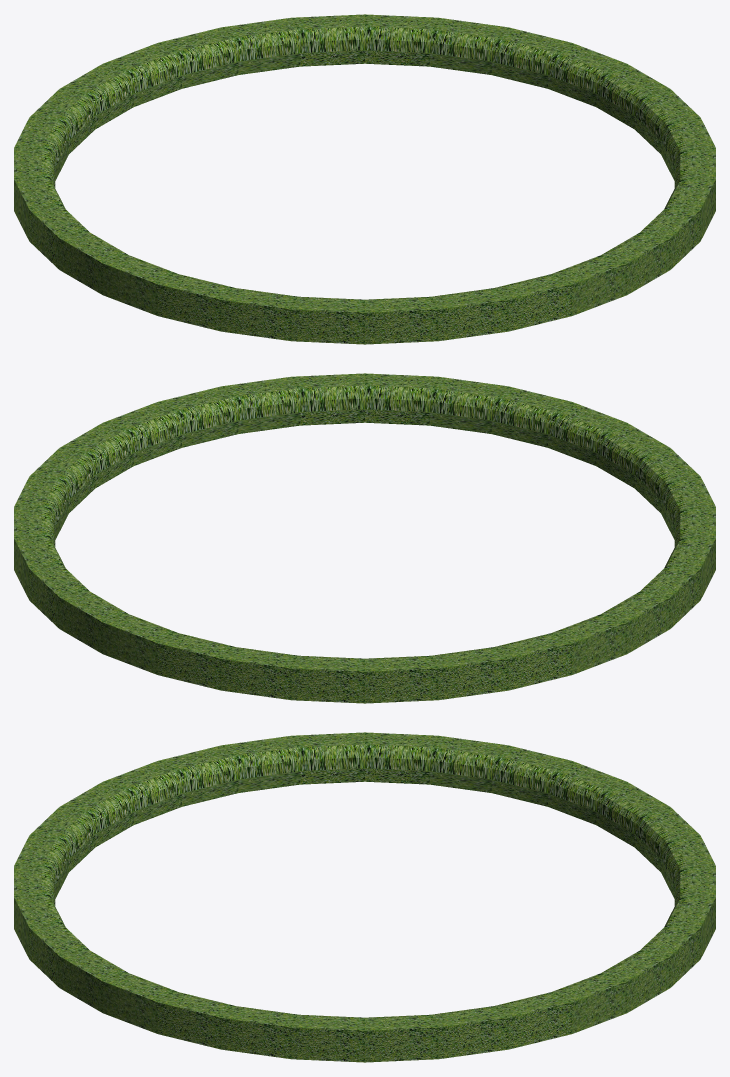
File: fzc_tree0722_01.FBX
3 renders of one model, top to bottom at view 1: azimuth 30°, elevation 25°; view 2: azimuth 150°, elevation 25°; view 3: azimuth 270°, elevation 25°, orthographic.
Parts seen in each view (by area): view 1: 对象001; view 2: 对象001; view 3: 对象001.
Part boxes in pixels (box(x1,y1,x2,y2)): 对象001: box(14, 14, 715, 344); 对象001: box(14, 373, 715, 703); 对象001: box(14, 732, 715, 1062).
Size of the model in its own units: 171 by 8.49 by 170.
